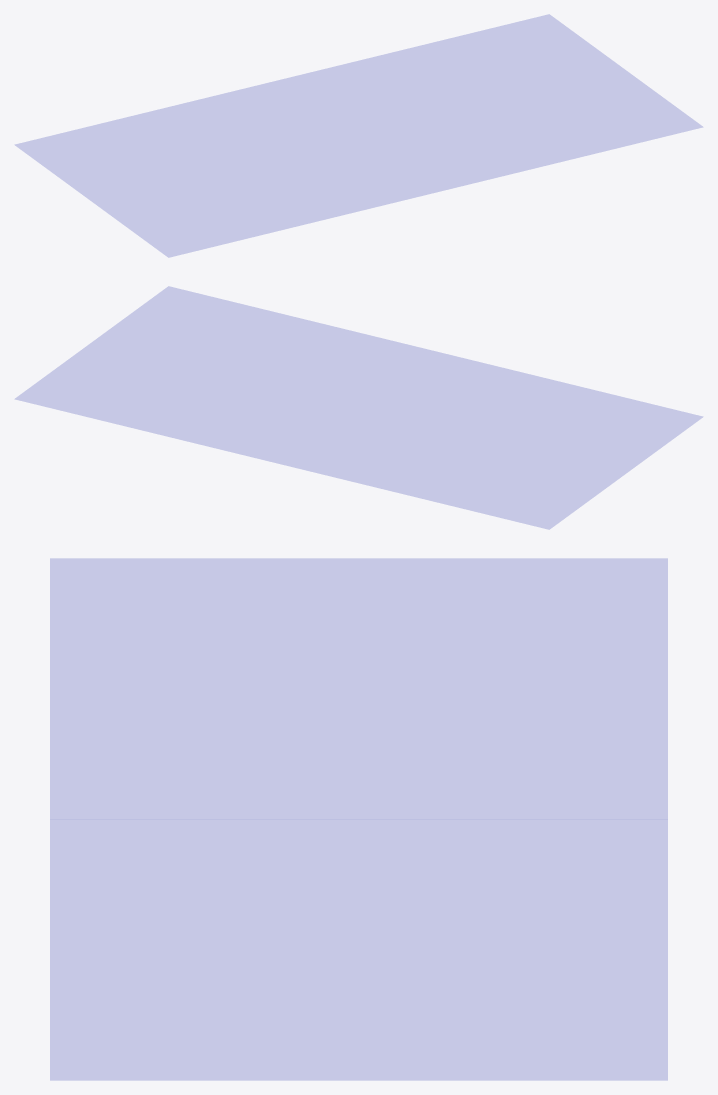
File: WaterPlane.fbx
3 renders of one model, top to bottom at view 1: azimuth 30°, elevation 25°; view 2: azimuth 150°, elevation 25°; view 3: azimuth 270°, elevation 25°, orthographic. The views are drawn at different scales.
Visible parts, largest first — view 1: WaterPlane; view 2: WaterPlane; view 3: WaterPlane.
Part boxes in pixels (x1,y1,x2,y2): WaterPlane: (15, 14, 702, 257); WaterPlane: (15, 286, 702, 529); WaterPlane: (50, 558, 667, 1080).
Size of the model in its own units: 8192 by 4096 by 0.
